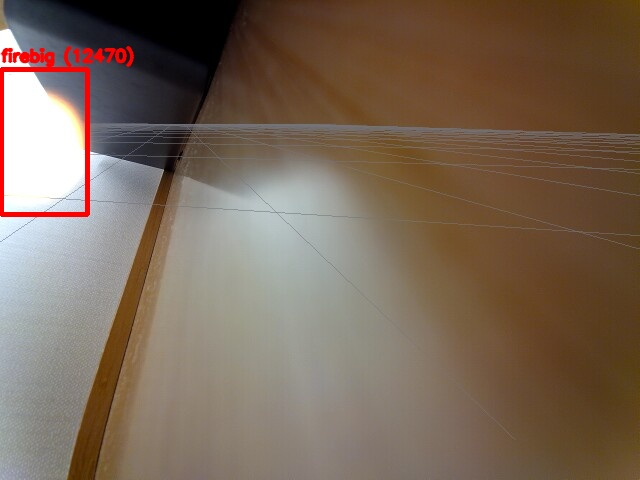firebig: (1, 69, 87, 214)
